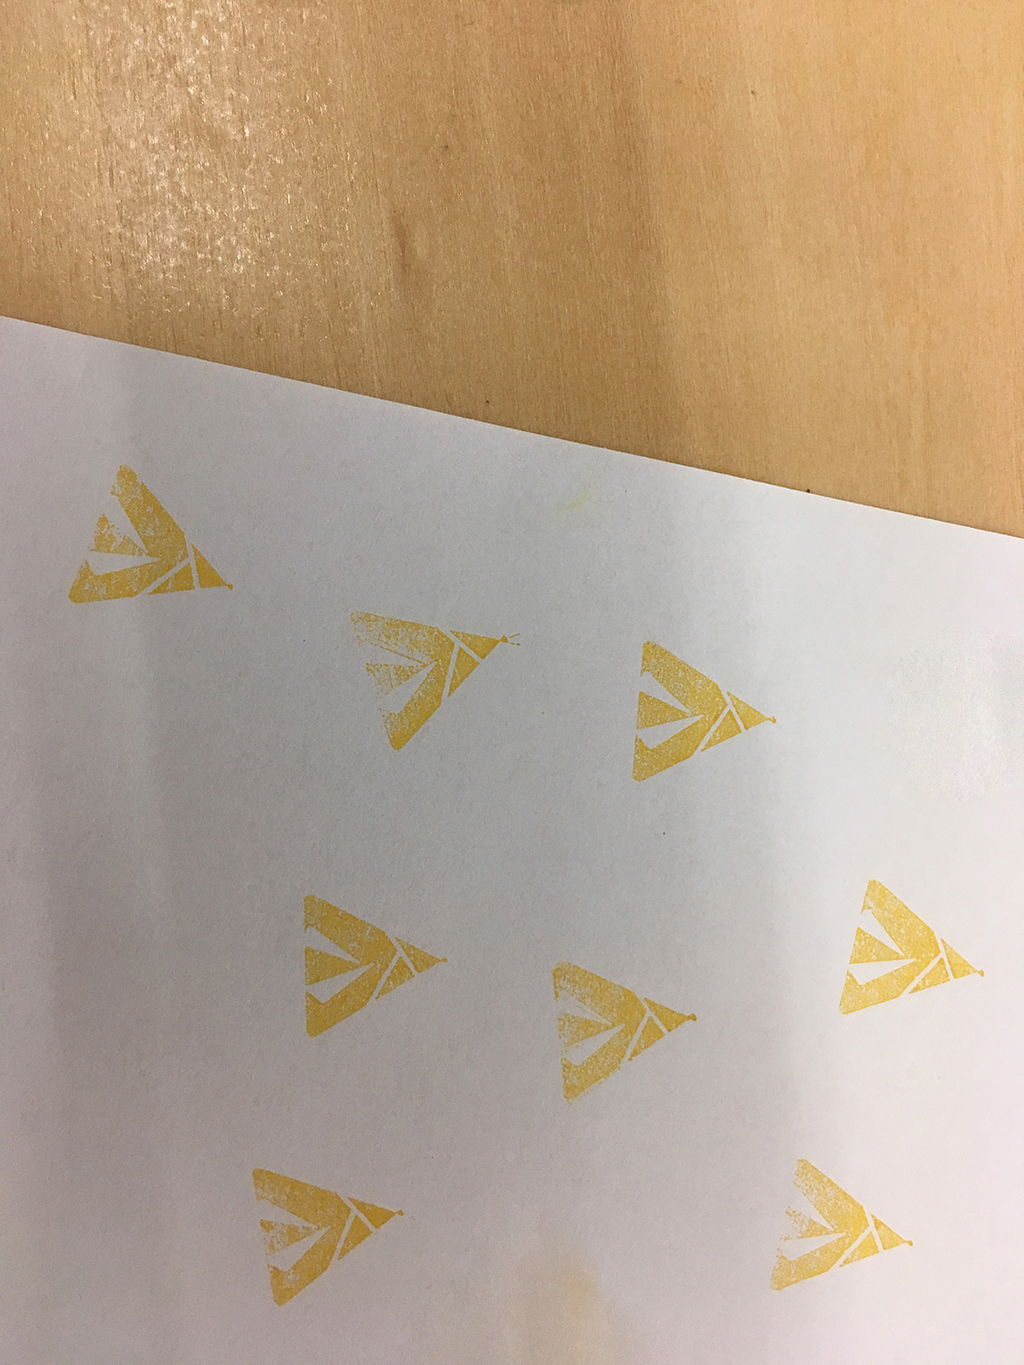tent: (336, 594, 532, 756), (65, 455, 239, 618), (290, 886, 456, 1046), (244, 1162, 414, 1316), (760, 1154, 925, 1302), (543, 956, 702, 1108), (627, 636, 785, 786), (836, 875, 990, 1023)
